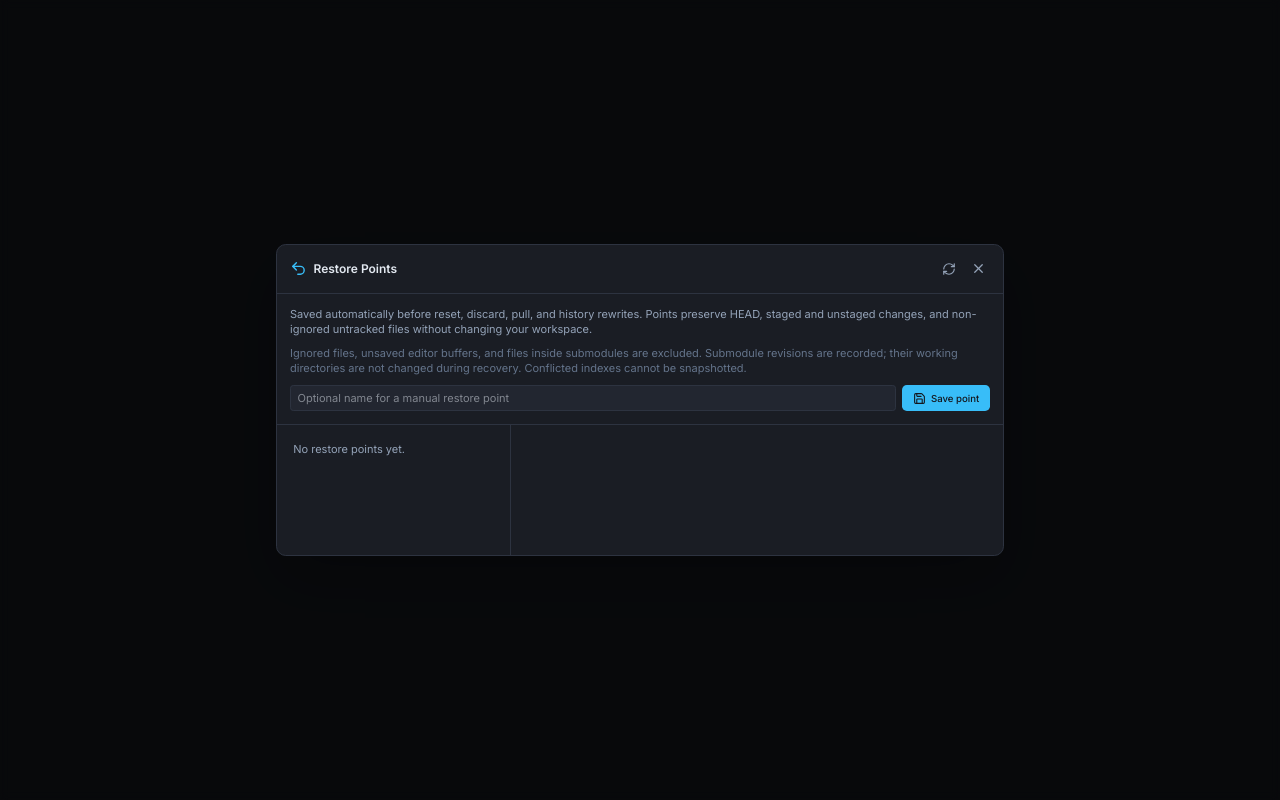
Test: RestorePointsModal › handles an empty list and saves named manual restore points then refreshes repository state
The image size is (1280, 800).
Expected: the text "No restore points yet." is shown, x1=293 y1=442 x2=405 y2=456
Type "Manual" into the field with placeholder "Optional name for a manual restore point" at (593, 398), box x1=290 y1=385 x2=896 y2=411
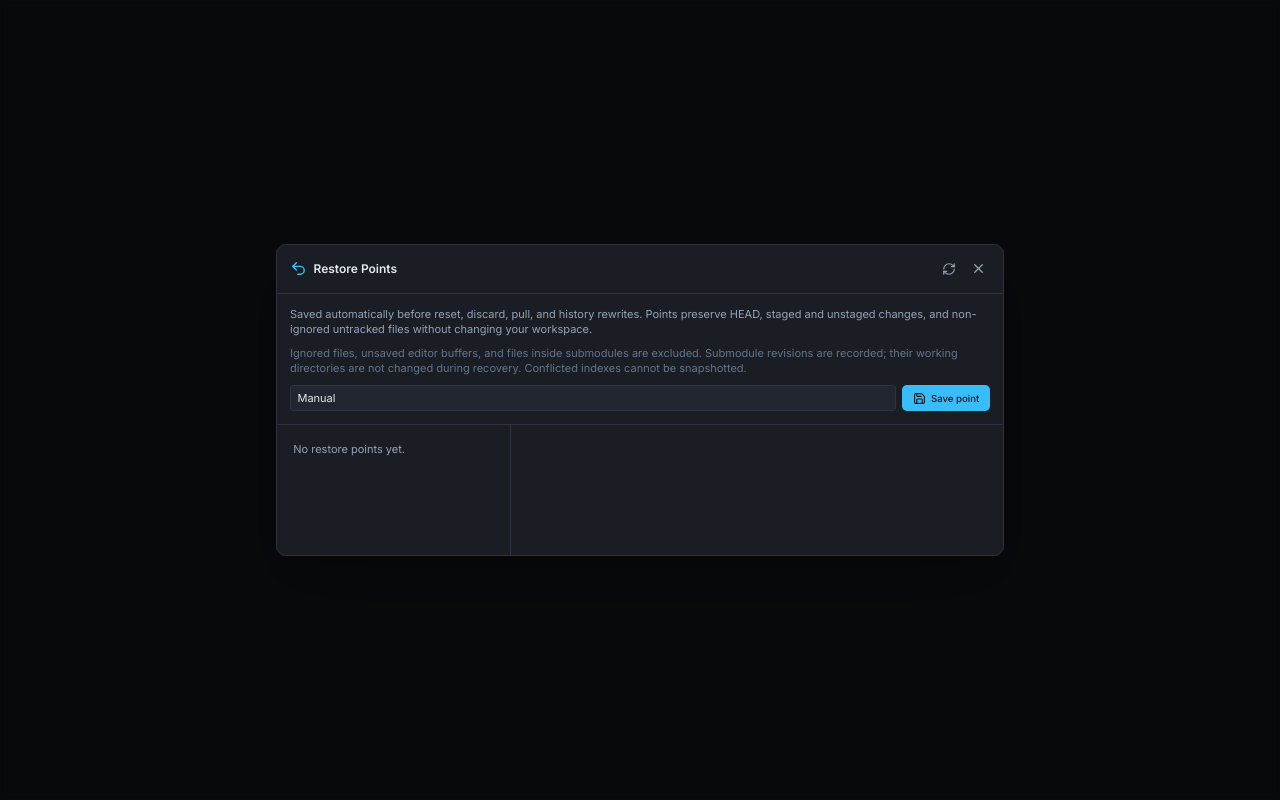
Click the button "Save point" at (946, 398), box x1=902 y1=385 x2=990 y2=411
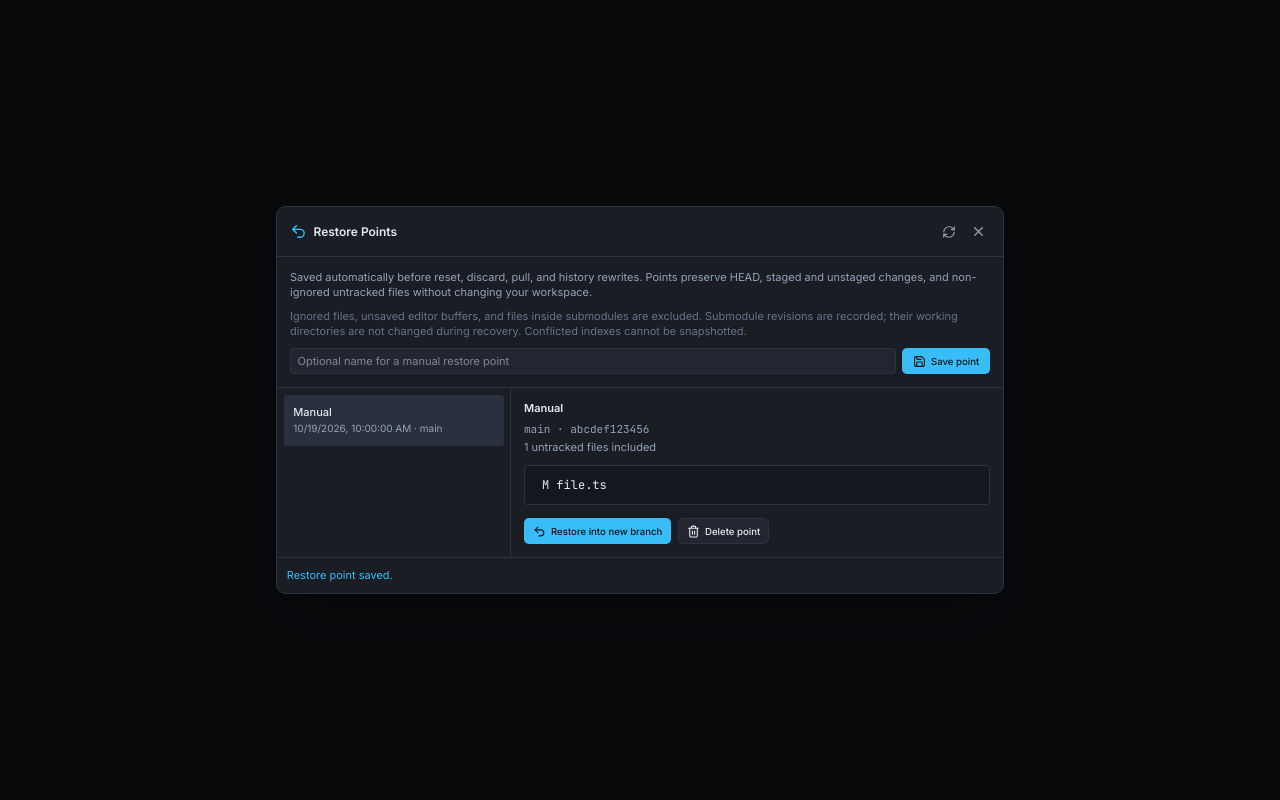
Result: the text "Restore point saved." is shown at x1=277 y1=557 x2=1003 y2=593
Result: the field with placeholder "Optional name for a manual restore point" is empty at x1=290 y1=348 x2=896 y2=374
